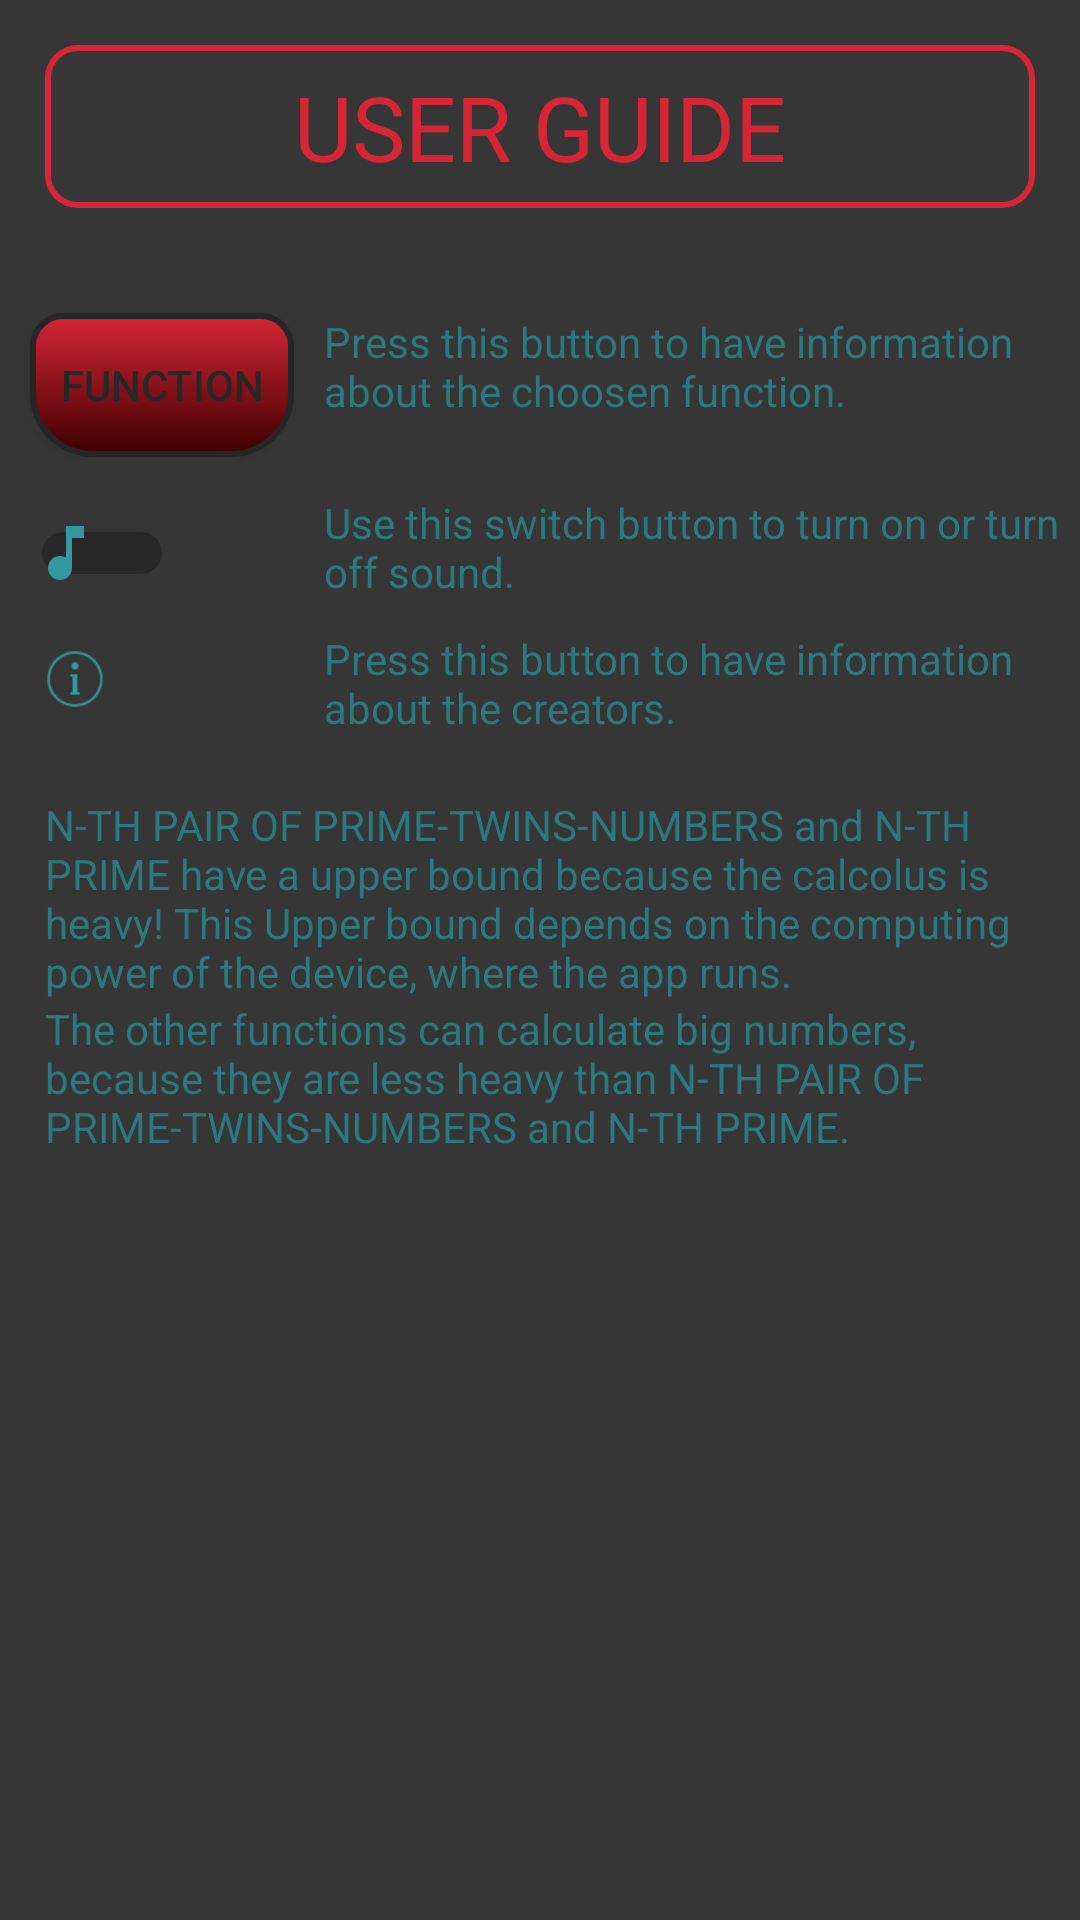

Named icons in this screenshot (1080px x 1920px) and their bounding boxes, (x1, y1, x2, y2):
info: (47, 651, 103, 707)
